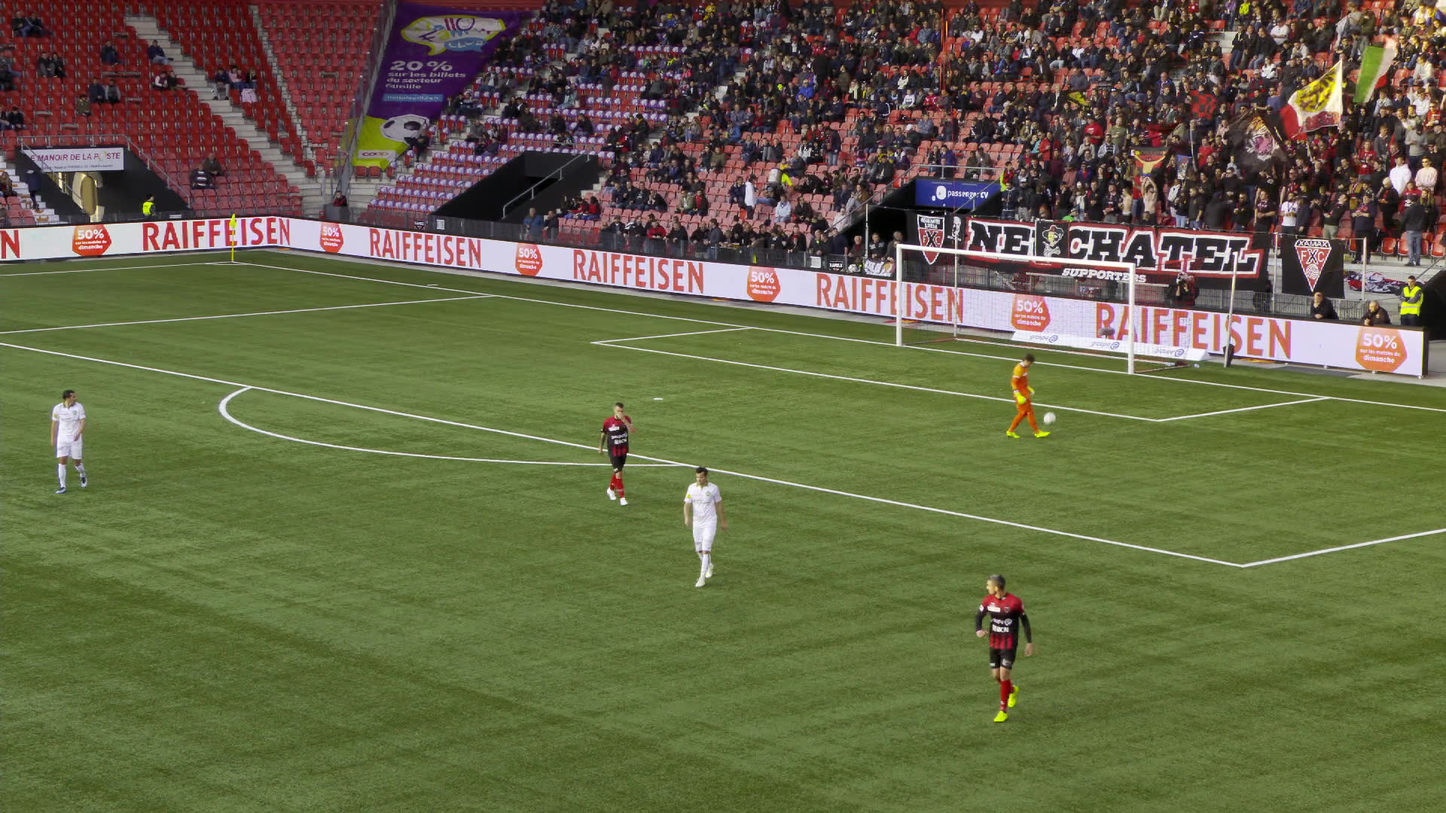ball: (1043, 415, 1055, 426)
player: (975, 574, 1034, 721), (684, 465, 726, 585), (598, 400, 635, 504), (51, 389, 87, 492), (1006, 354, 1045, 438)
